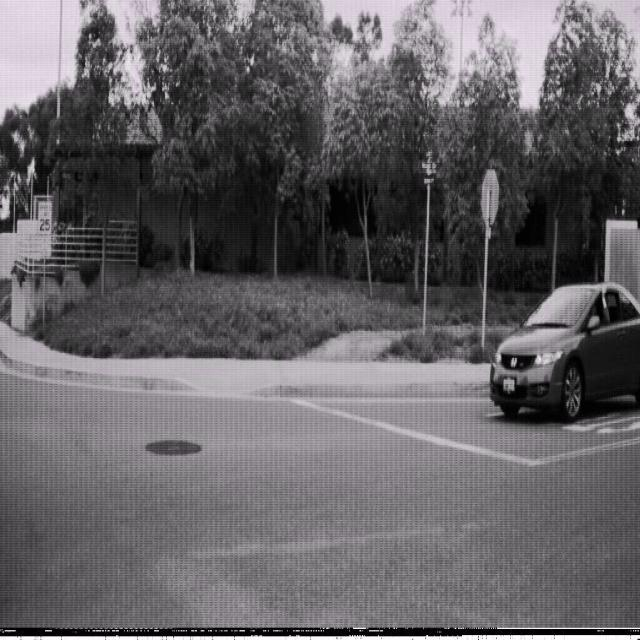speedLimit25: (37, 198, 52, 236)
